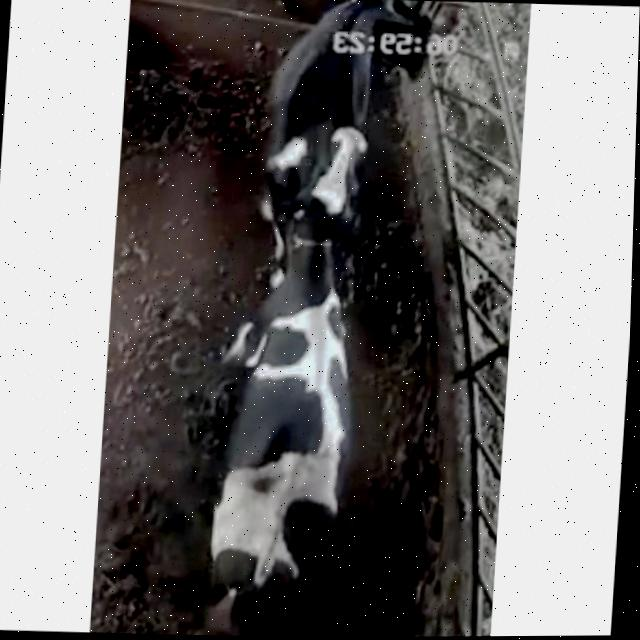propping: (245, 110, 397, 268)
